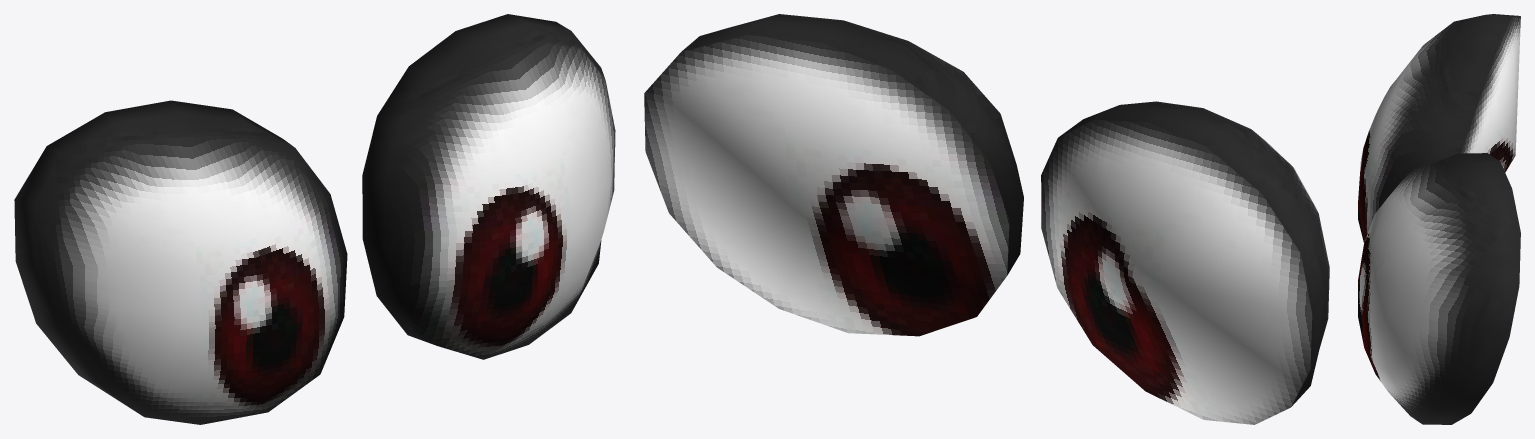
The model's file is m_e_jangbi.FBX.
3 renders of one model, left to right at view 1: azimuth 30°, elevation 25°; view 2: azimuth 150°, elevation 25°; view 3: azimuth 270°, elevation 25°, orthographic. The views are drawn at different scales.
Visible parts, largest first — view 1: eye; view 2: eye; view 3: eye.
Part boxes in pixels (x1,y1,x2,y2): eye: (14, 14, 615, 424); eye: (644, 14, 1329, 424); eye: (1358, 14, 1520, 424).
Size of the model in its own units: 5.18 by 2.41 by 1.43.
